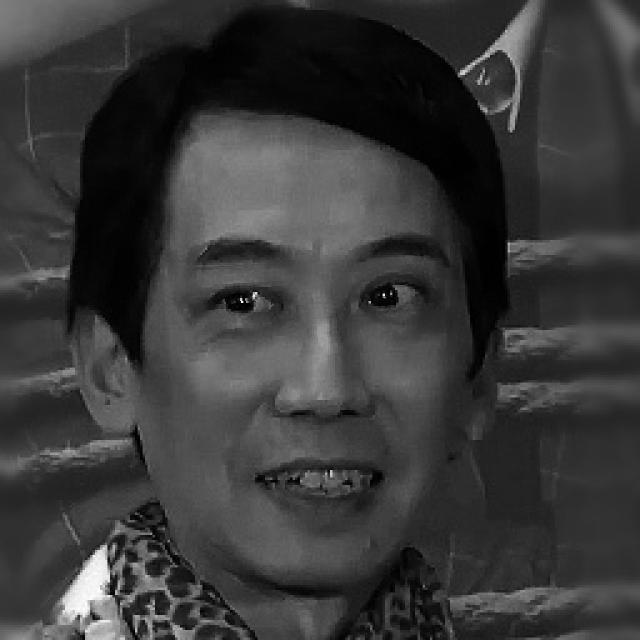no-glasses: (176, 259, 446, 359)
